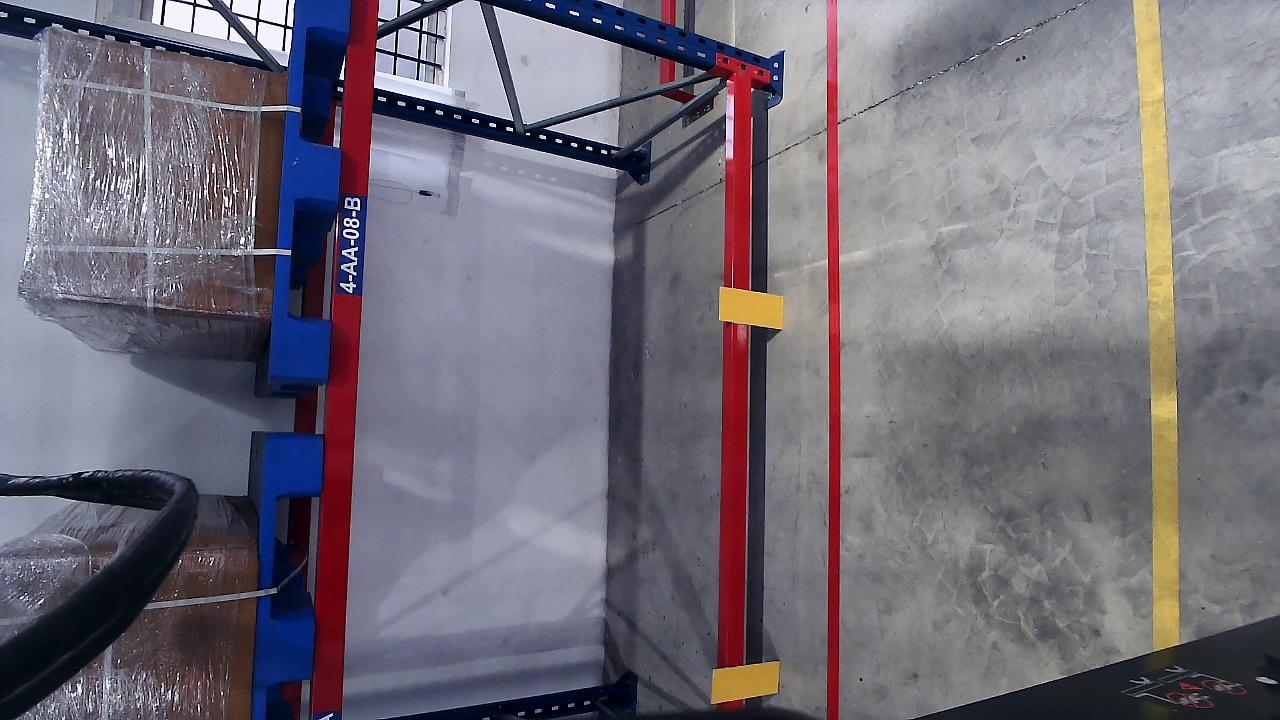h_rack: (310, 0, 380, 720), (725, 77, 759, 669)
orange_strip: (711, 660, 780, 702), (719, 287, 784, 329)
red_line: (822, 0, 844, 720)
small_pallet: (269, 0, 353, 379), (249, 433, 322, 720)
yellow_line: (1134, 0, 1181, 654)
